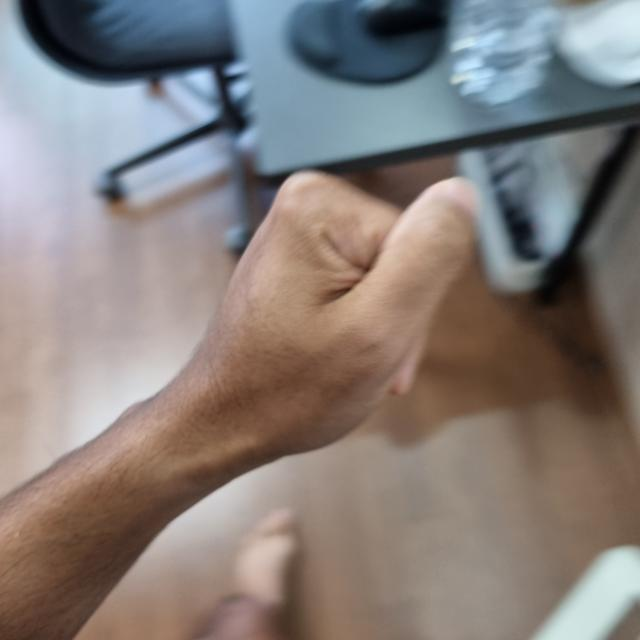Rock: (188, 179, 436, 456)
